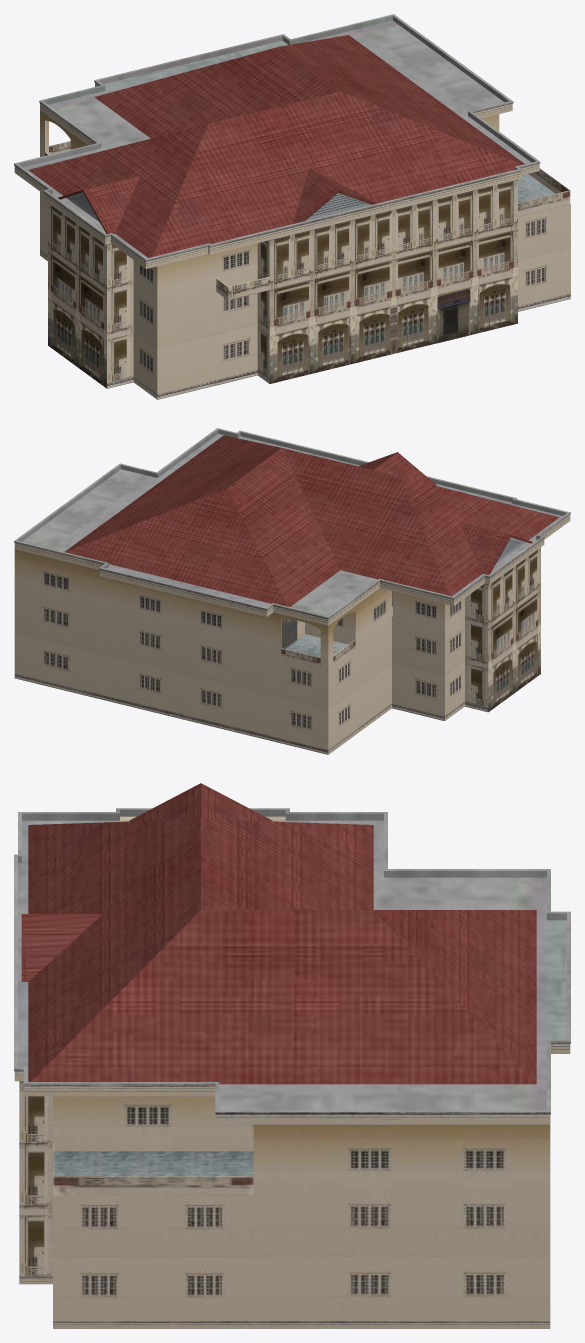
3 renders of one model, top to bottom at view 1: azimuth 30°, elevation 25°; view 2: azimuth 150°, elevation 25°; view 3: azimuth 270°, elevation 25°, orthographic. The views are drawn at different scales.
Parts seen in each view (by area): view 1: DN012_QuyDauTu_PhatTrienTpDN; view 2: DN012_QuyDauTu_PhatTrienTpDN; view 3: DN012_QuyDauTu_PhatTrienTpDN.
Part boxes in pixels (x1=…): DN012_QuyDauTu_PhatTrienTpDN: x1=14, y1=14, x2=570, y2=399; DN012_QuyDauTu_PhatTrienTpDN: x1=14, y1=428, x2=570, y2=754; DN012_QuyDauTu_PhatTrienTpDN: x1=14, y1=783, x2=570, y2=1328.
Size of the model in its own units: 37.48 by 17.11 by 29.05.
Materials: 1 (1 with a texture image).
